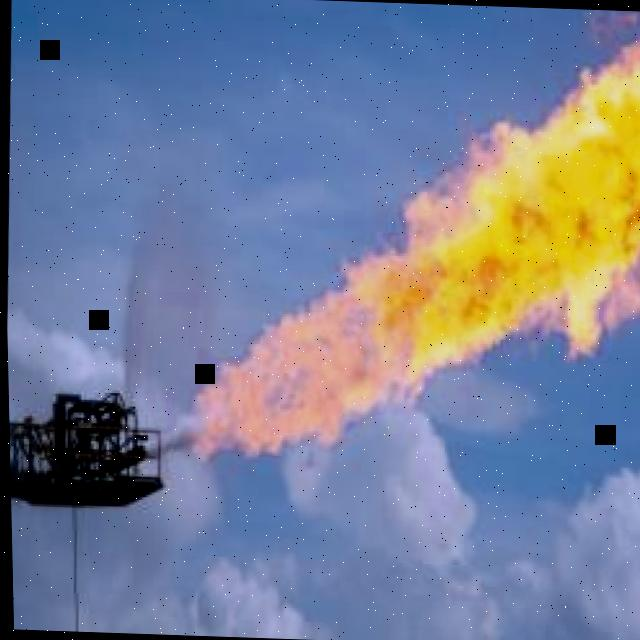fire: (183, 36, 640, 461)
smoke: (120, 180, 253, 432), (601, 258, 640, 336), (586, 11, 640, 55)
